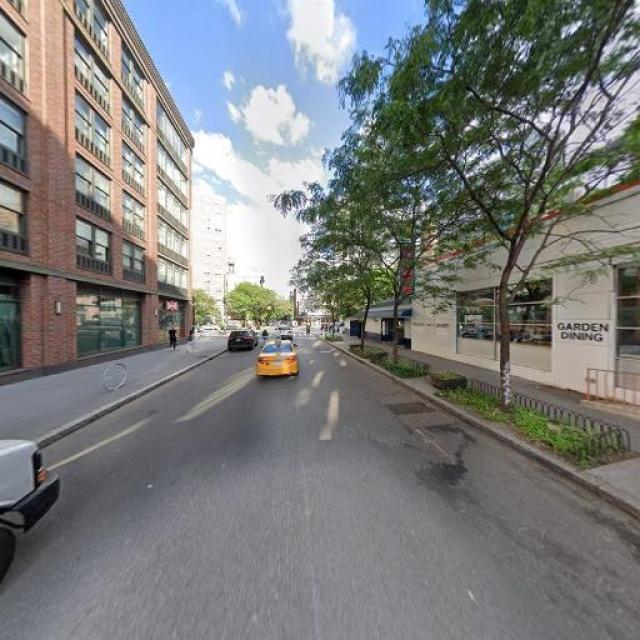Building: (1, 1, 190, 393), (418, 184, 640, 412)
